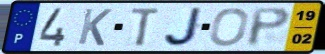4: (38, 7, 67, 48)
J: (162, 6, 205, 48)
K: (76, 8, 114, 48)
O: (208, 7, 251, 48)
P: (246, 6, 293, 48)
T: (129, 7, 163, 48)
